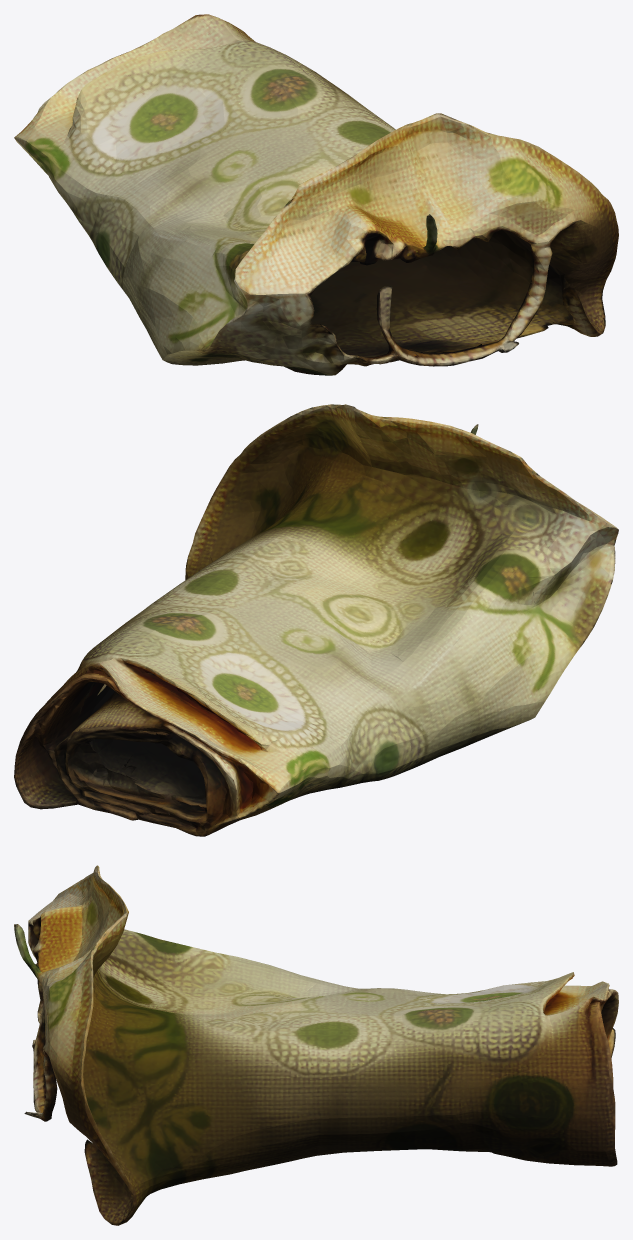
Rendered from hemp-food-wrap-organic hi-res.jpeg.glb.
3 views of the same model, one above another, from view 1: azimuth 30°, elevation 25°; view 2: azimuth 150°, elevation 25°; view 3: azimuth 270°, elevation 25° (orthographic). The views are drawn at different scales.
Visible parts, largest first — view 1: world; view 2: world; view 3: world.
Part boxes in pixels (x1,y1,x2,y2): world: (14,14,618,375); world: (14,404,618,836); world: (14,865,618,1225).
Size of the model in its own units: 0.7295 by 0.4326 by 0.99.
1 material, 1 textured.
